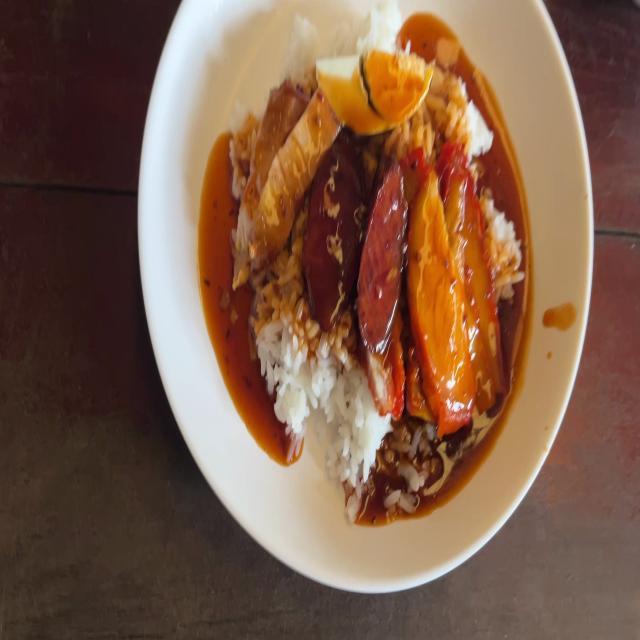01boiled_egg: (312, 60, 437, 126)
01chainese_sausage: (314, 147, 402, 337), (306, 148, 356, 319), (366, 164, 415, 324)
01crispy_pork: (228, 76, 328, 266)
01red_pork: (414, 149, 495, 413), (451, 174, 513, 413), (414, 154, 464, 418)
01red_pork_and_crispy_pork: (226, 9, 533, 516)
01rice: (255, 260, 319, 422), (328, 346, 381, 487)
